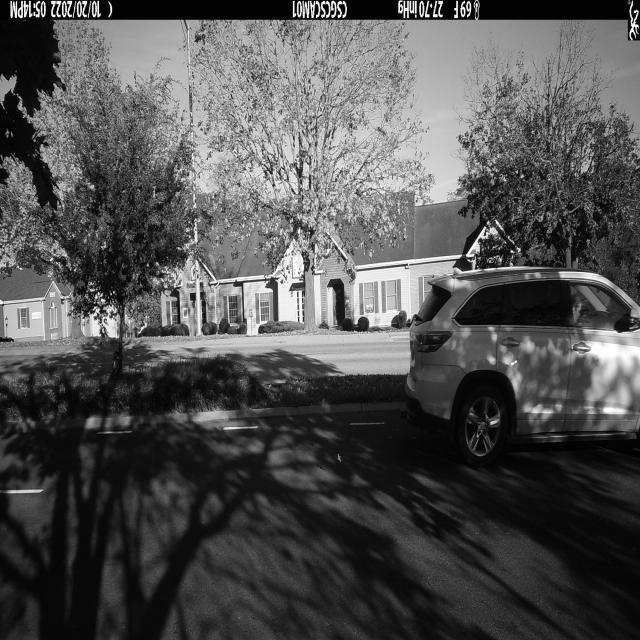SUV: (405, 266, 640, 469)
